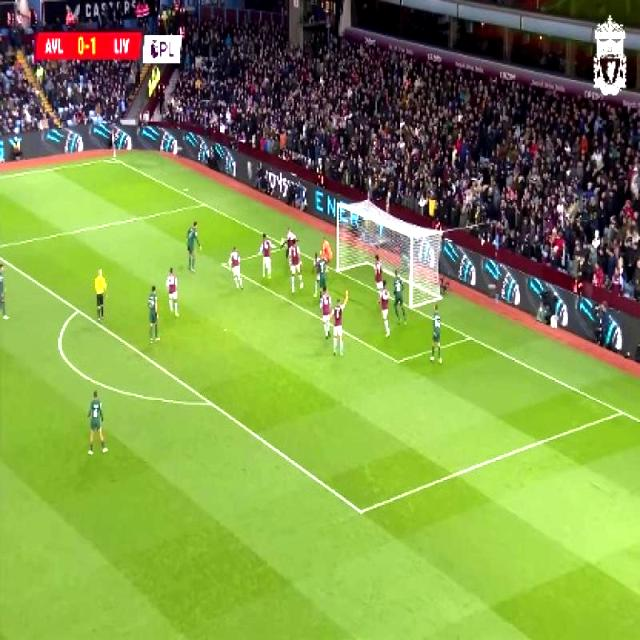bigarea_bottom_inner: (349, 495, 371, 525)
bigarea_bottom_outter: (612, 402, 630, 422)
bigarea_top_outter: (197, 196, 211, 210)
bottom_arc_area_intersection: (200, 390, 218, 415)
corner: (105, 150, 122, 165)
smallarea_bottom_inner: (389, 348, 406, 372)
smallarea_bottom_outter: (463, 328, 477, 346)
smallarea_top_inner: (217, 254, 231, 272)
smallarea_top_outter: (274, 238, 286, 252)
top_arc_area_intersection: (68, 298, 86, 322)
